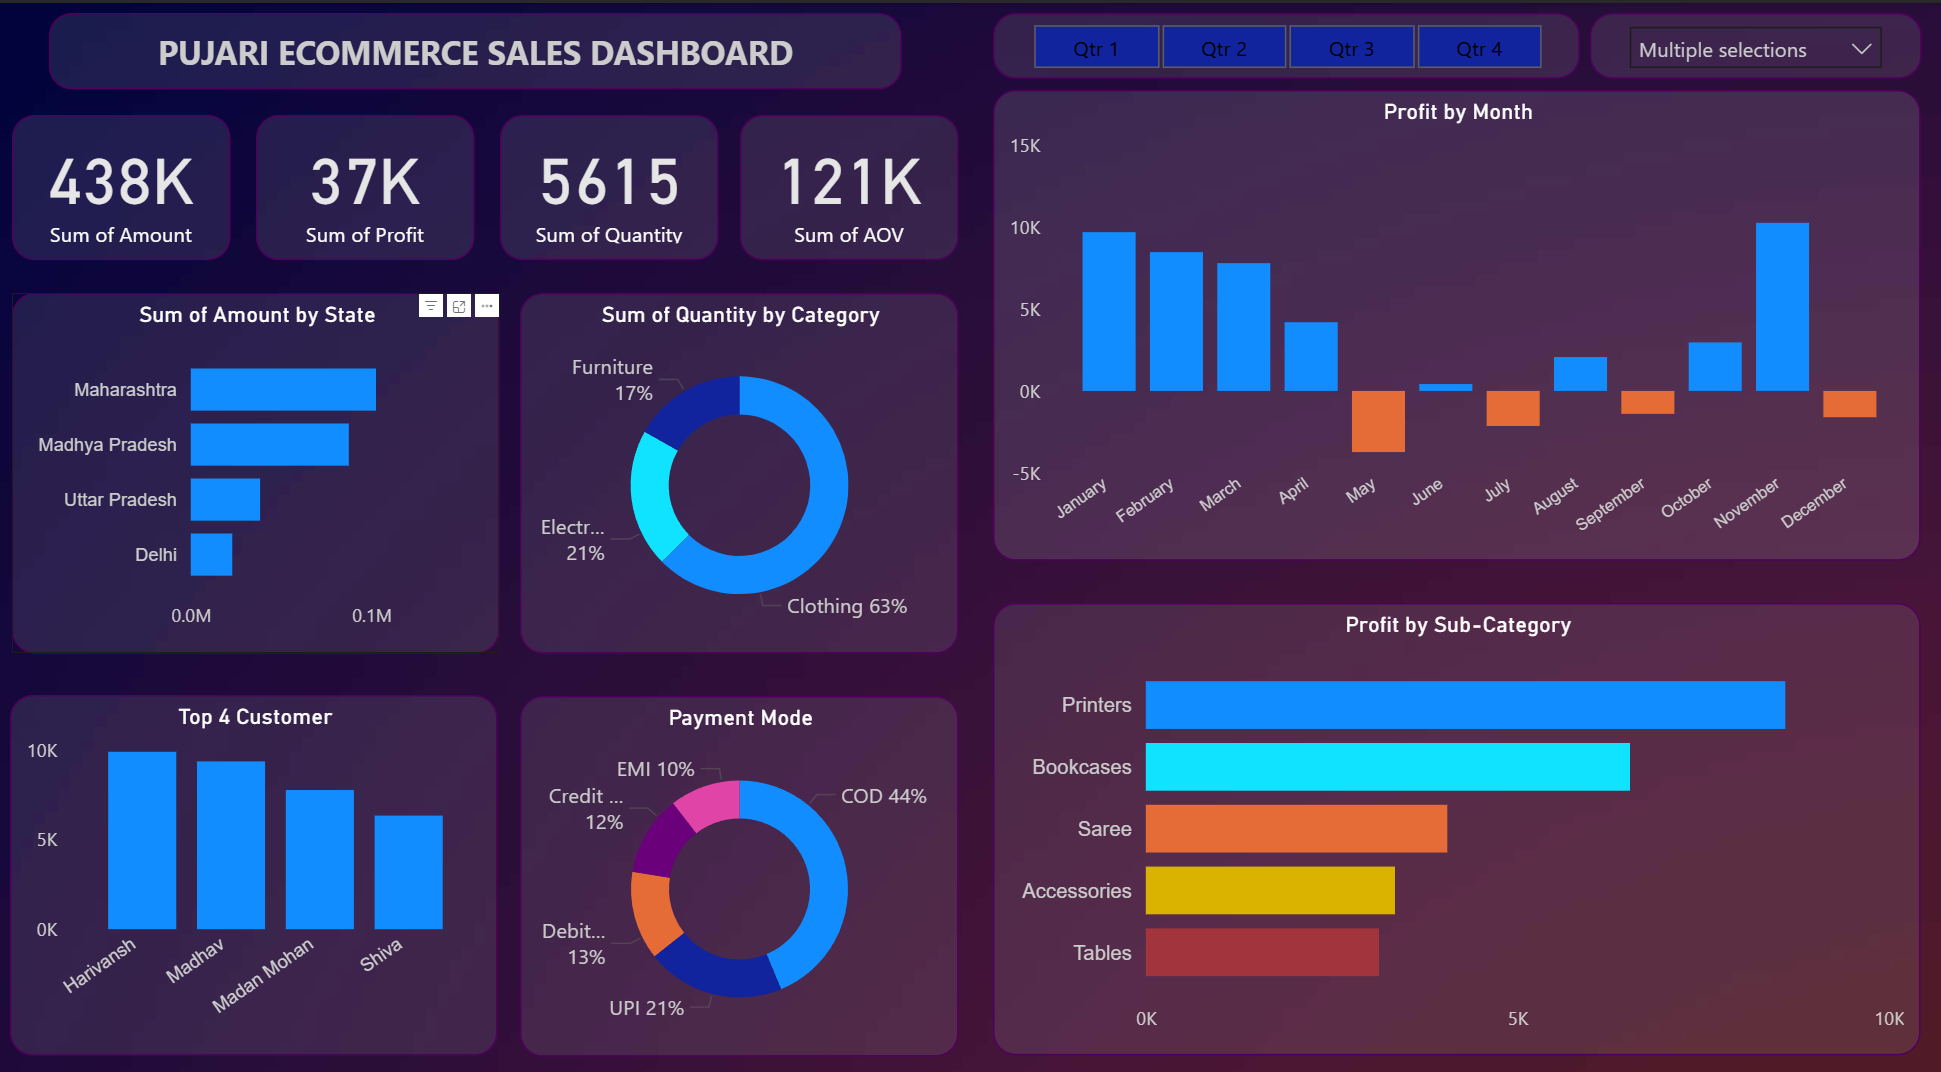

The dashboard page shown, as its layout file describes it:
{"tool":"powerbi","page":{"name":"Page 1","canvas":[1280,720],"ordinal":0},"visuals":[{"type":"textbox","box":[34,6.5,558.2,50.4],"z":0},{"type":"columnChart","title":" Profit by Month","fields":{"Category":["Orders.Order Date.Variation.Date Hierarchy.Month"],"Y":["Details.Profit"]},"box":[651.8,56.9,607.3,307.6],"z":1000},{"type":"barChart","title":"Profit by Sub-Category","fields":{"Category":["Details.Sub-Category"],"Y":["Details.Profit"]},"box":[651.8,392.6,607.3,296.4],"z":2000},{"type":"donutChart","title":"Payment Mode","fields":{"Y":["Details.Quantity"],"Category":["Details.PaymentMode"]},"box":[342.2,453.5,287.3,235.6],"z":3000},{"type":"donutChart","fields":{"Category":["Details.Category"],"Y":["Details.Quantity"]},"box":[342.2,189.8,287.3,235.6],"z":4000},{"type":"card","fields":{"Values":["Details.Amount"]},"box":[9.8,73.3,142.7,94.9],"z":5000},{"type":"card","fields":{"Values":["Details.Profit"]},"box":[169.5,73.3,142.7,94.9],"z":6000},{"type":"card","fields":{"Values":["Details.Quantity"]},"box":[329.2,73.3,142.7,94.9],"z":7000},{"type":"card","fields":{"Values":["Details.AOV"]},"box":[486.2,73.3,142.7,94.9],"z":8000},{"type":"barChart","fields":{"Category":["Orders.State"],"Y":["Details.Amount"]},"box":[9.8,189.8,319.3,235.6],"z":9000},{"type":"columnChart","title":"Top 4 Customer","fields":{"Category":["Orders.CustomerName"],"Y":["Details.Amount"]},"box":[8.5,452.8,319.3,236.2],"z":10000},{"type":"slicer","fields":{"Values":["Orders.Order Date.Variation.Date Hierarchy.Quarter"]},"box":[651.8,6.5,384.1,43.2],"z":11000},{"type":"slicer","fields":{"Values":["Orders.State"]},"box":[1042.5,6.5,216.6,43.2],"z":12000}]}

Visuals, with their boxes in screenshot pixels (x1, y1, x2, y2), scaled from the page's 1280x720 canvas onto the 1941x1072 screenshot:
textbox: bbox=[52, 10, 898, 85]
" Profit by Month" columnChart: bbox=[988, 85, 1909, 543]
"Profit by Sub-Category" barChart: bbox=[988, 585, 1909, 1026]
"Payment Mode" donutChart: bbox=[519, 675, 955, 1026]
donutChart - Details.Category x Details.Quantity: bbox=[519, 283, 955, 633]
card - Details.Amount: bbox=[15, 109, 231, 250]
card - Details.Profit: bbox=[257, 109, 473, 250]
card - Details.Quantity: bbox=[499, 109, 716, 250]
card - Details.AOV: bbox=[737, 109, 954, 250]
barChart - Orders.State x Details.Amount: bbox=[15, 283, 499, 633]
"Top 4 Customer" columnChart: bbox=[13, 674, 497, 1026]
slicer - Orders.Order Date.Variation.Date Hierarchy.Quarter: bbox=[988, 10, 1571, 74]
slicer - Orders.State: bbox=[1581, 10, 1909, 74]
